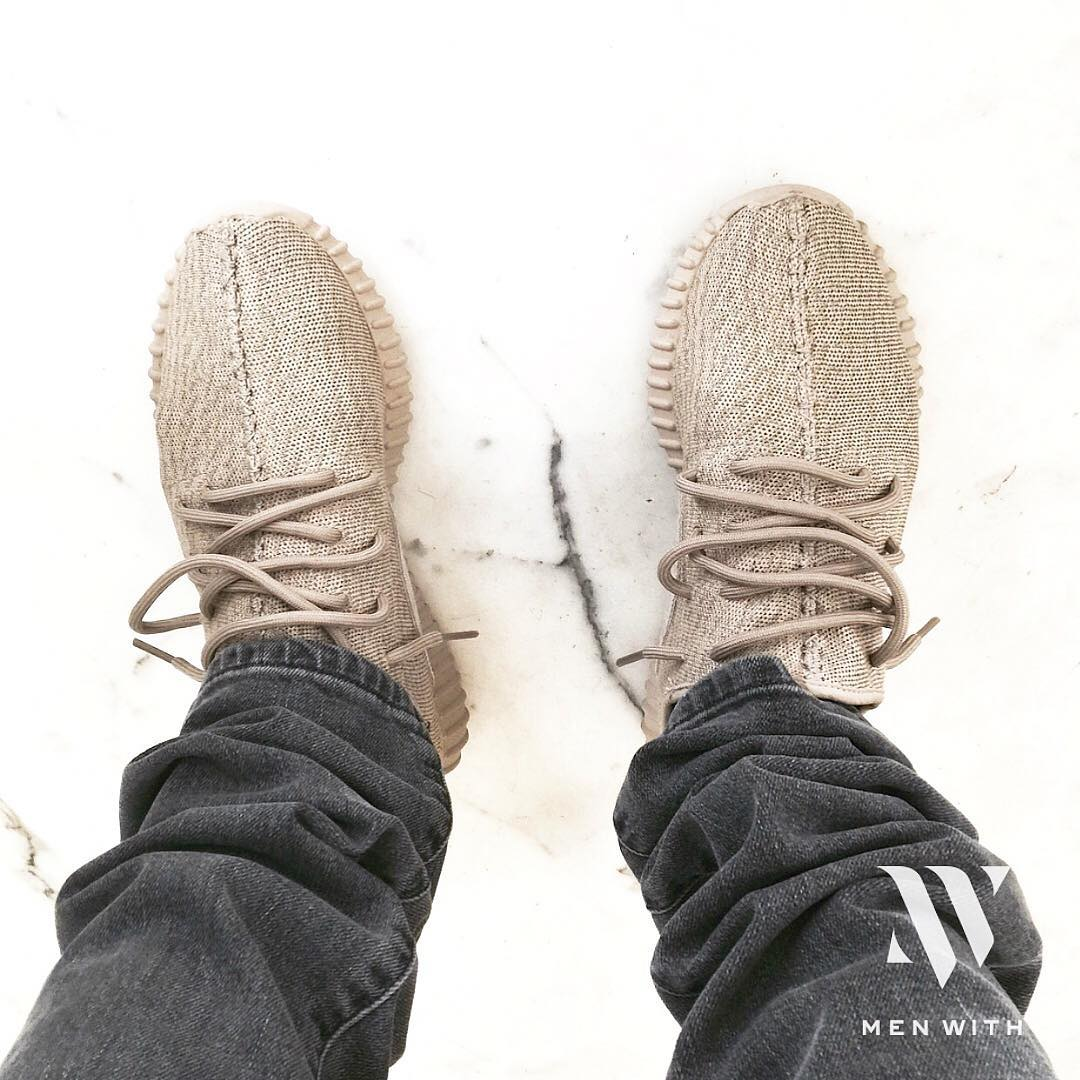sneaker: (60, 179, 532, 829), (603, 162, 963, 810)
